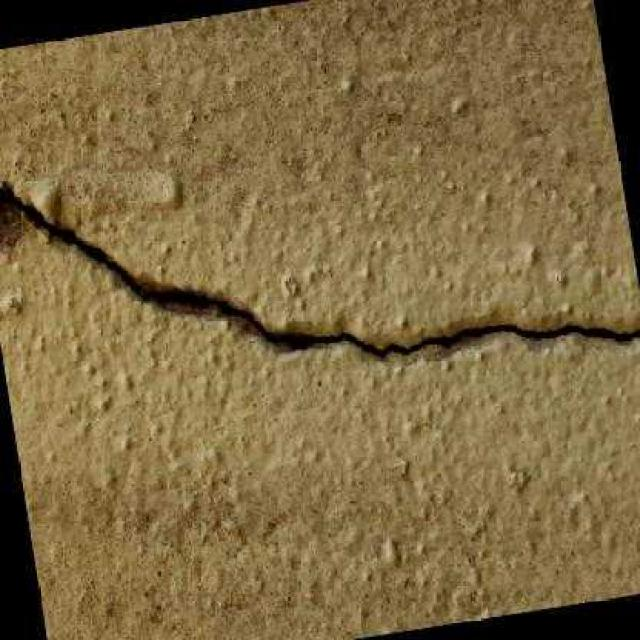D00: (0, 187, 640, 355)
